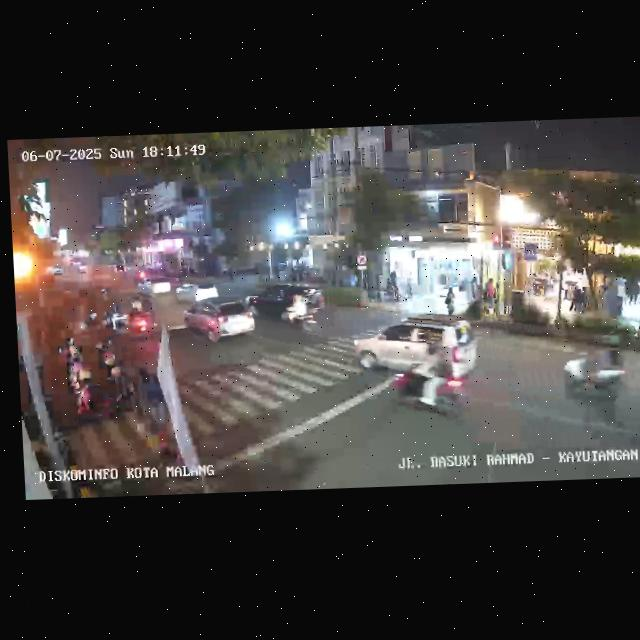car: (353, 315, 475, 380), (183, 296, 257, 347), (247, 282, 324, 330)
motorcycle: (388, 337, 469, 421), (560, 343, 631, 406), (278, 287, 321, 336), (125, 300, 161, 343)
person: (132, 363, 169, 429), (485, 277, 497, 310), (567, 281, 578, 314), (402, 272, 413, 303), (469, 277, 481, 305), (444, 288, 455, 316)
